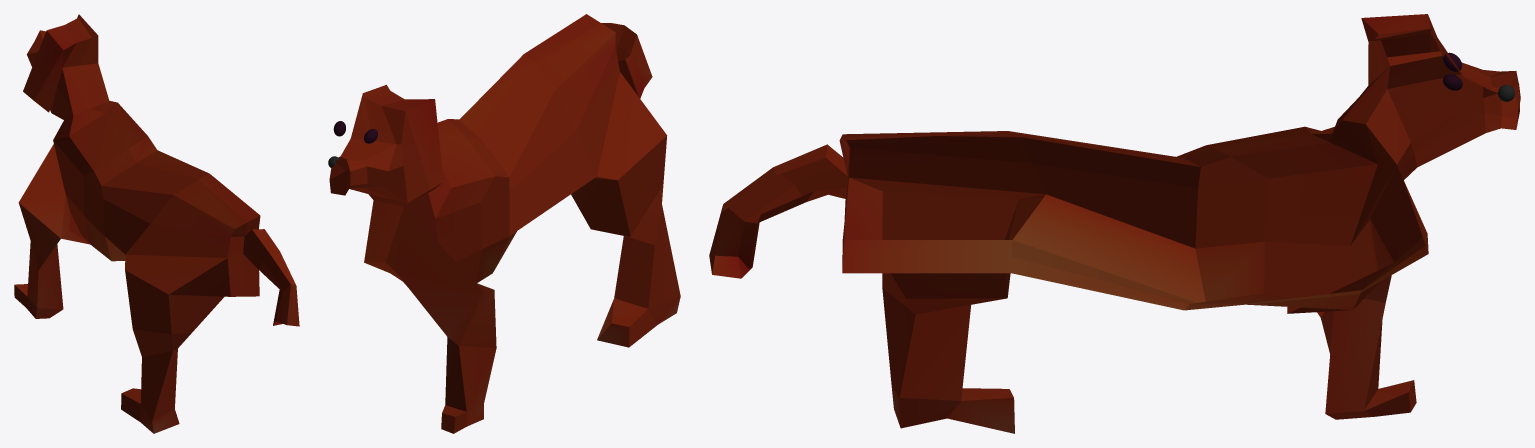
The model's file is Dog-colored2.glb.
3 renders of one model, left to right at view 1: azimuth 30°, elevation 25°; view 2: azimuth 150°, elevation 25°; view 3: azimuth 270°, elevation 25°, orthographic. The views are drawn at different scales.
Visible parts, largest first — view 1: Cube; view 2: Cube; view 3: Cube.
Boxes of the visible parts, x1,y1,x2,y2 form: Cube: (14, 14, 299, 433); Cube: (329, 14, 680, 433); Cube: (709, 14, 1520, 433).
Bounding box in the file's own units: 3.41 × 8.37 × 13.5.
